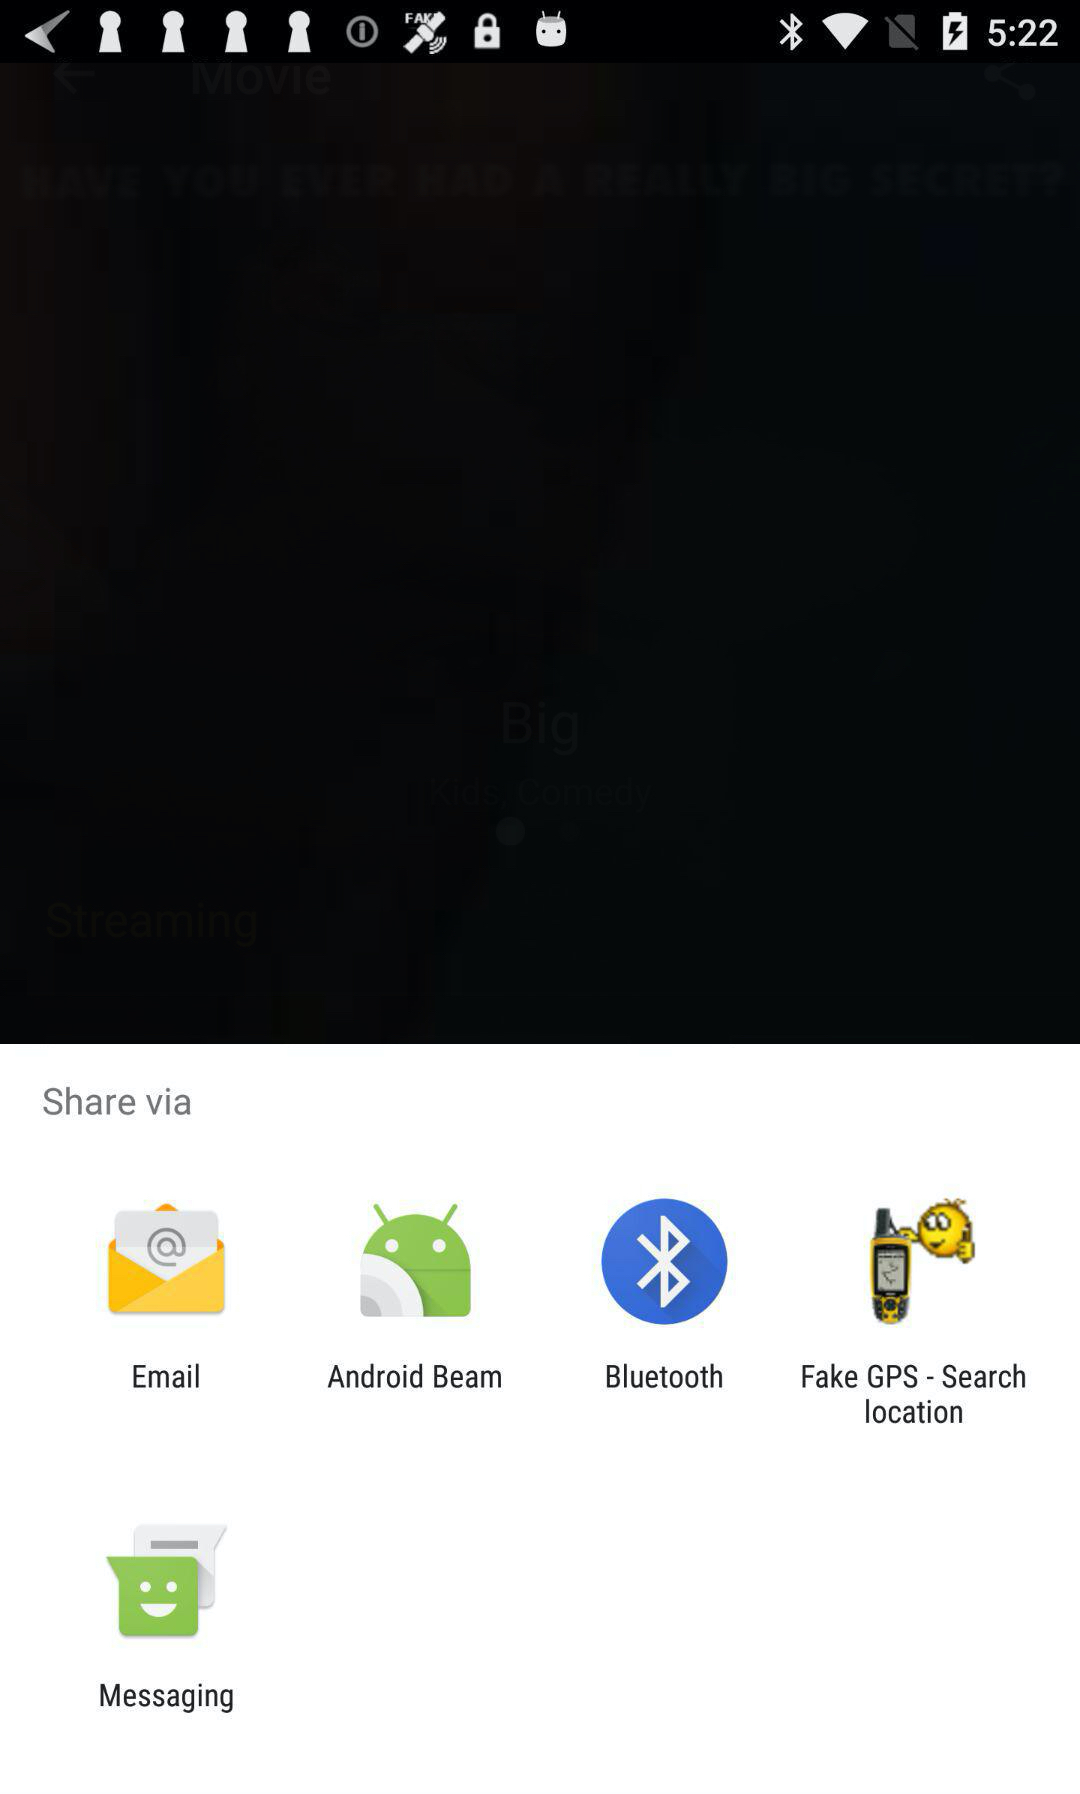Icon: (601, 1198, 729, 1326)
Image: (869, 1197, 976, 1328), (106, 1522, 229, 1636), (109, 1202, 228, 1315), (360, 1203, 471, 1319)
Modal: (1, 1044, 1080, 1794)
Text: (801, 1362, 1026, 1425), (44, 1085, 193, 1117), (327, 1362, 503, 1389), (100, 1683, 234, 1715), (606, 1363, 723, 1390), (133, 1363, 201, 1390)
UpperTaskBar: (1, 1, 1080, 64)
